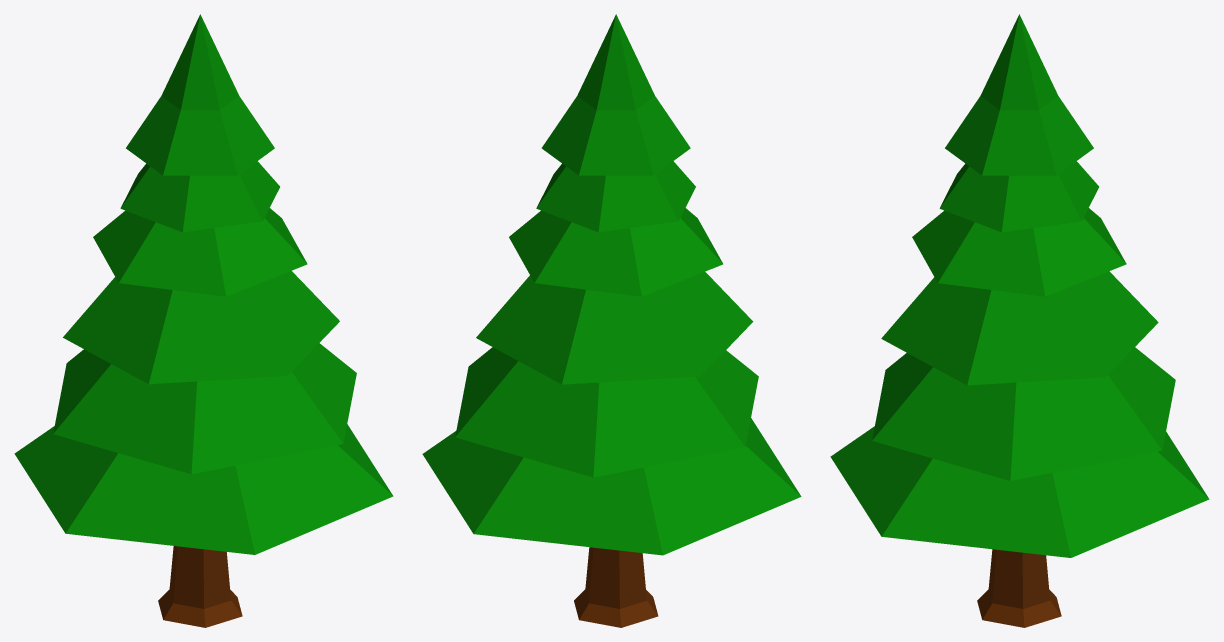
Rendered from PineTree2.fbx.
3 views of the same model, side by side, from view 1: azimuth 30°, elevation 25°; view 2: azimuth 150°, elevation 25°; view 3: azimuth 270°, elevation 25° (orthographic).
Visible parts, largest first — view 1: Cone.001; view 2: Cone.001; view 3: Cone.001.
Boxes of the visible parts, <box> form: Cone.001: <box>14,14,393,627</box>; Cone.001: <box>422,14,801,627</box>; Cone.001: <box>830,14,1209,627</box>.
Bounding box in the file's own units: 175 × 302 × 175.
